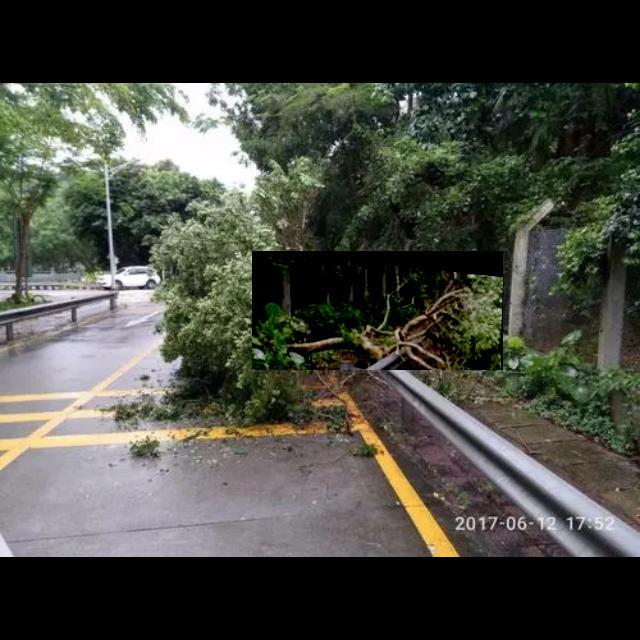fallen_tree: (252, 251, 504, 371)
